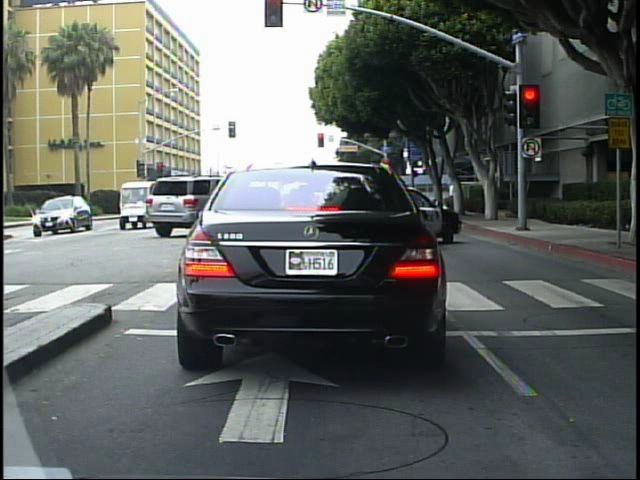person: (445, 179, 459, 210)
